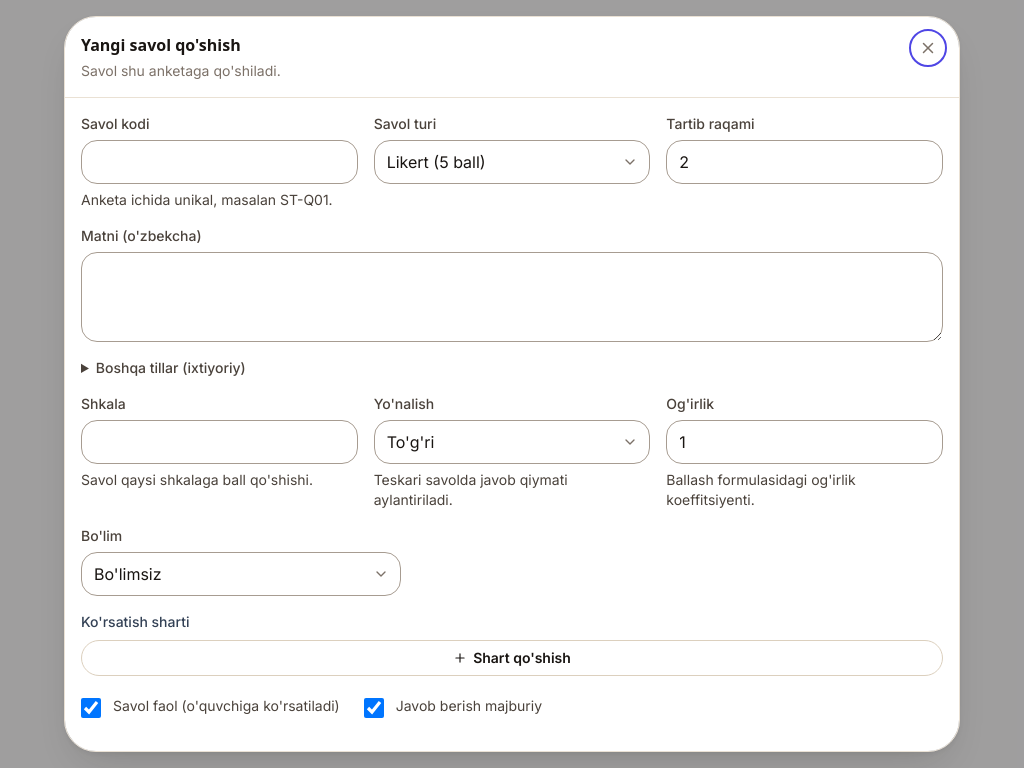
Test: QuestionEditorDialog — turga qarab maydonlar › noto'g'ri regex kiritilsa forma darajasida xato ko'rsatiladi (backend so'ralmaydi)
Step 1. Select "Qisqa matn" in the dropdown labelled "Savol turi" → {"x": 512, "y": 162}, box 374,140 -> 650,184
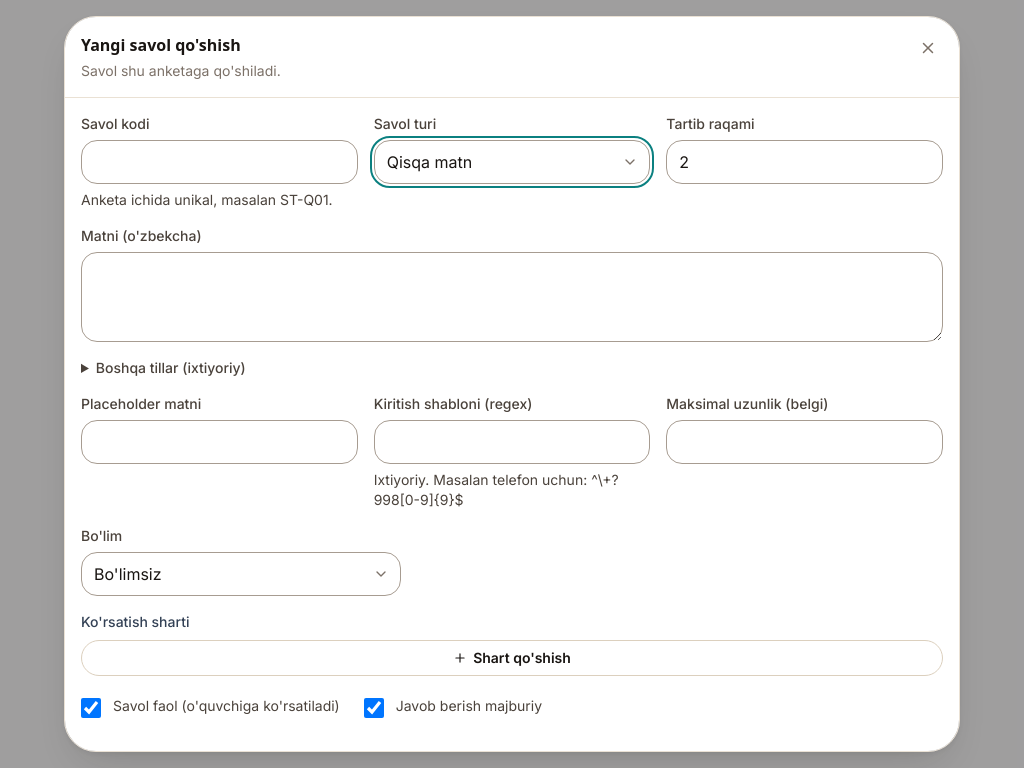
Step 2. Type "Q9" into the field labelled "Savol kodi" → {"x": 219, "y": 162}, box 81,140 -> 358,184
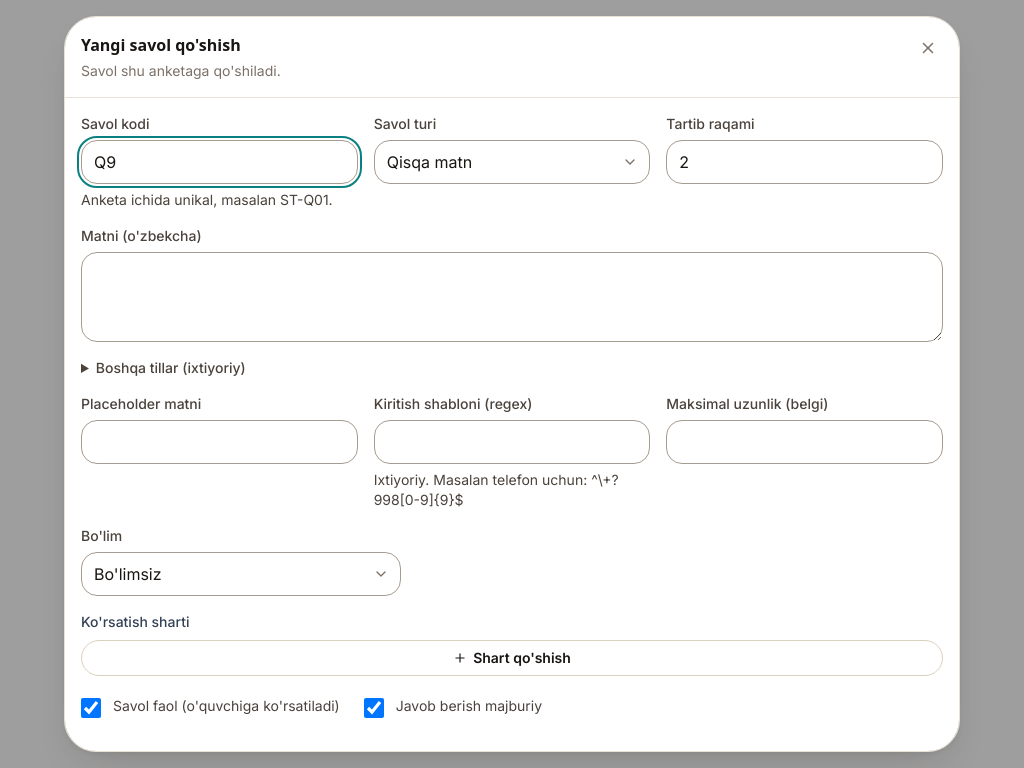
Step 3. Type "Test savoli" into the text box labelled "Matni (o'zbekcha)" → {"x": 512, "y": 297}, box 81,252 -> 943,342
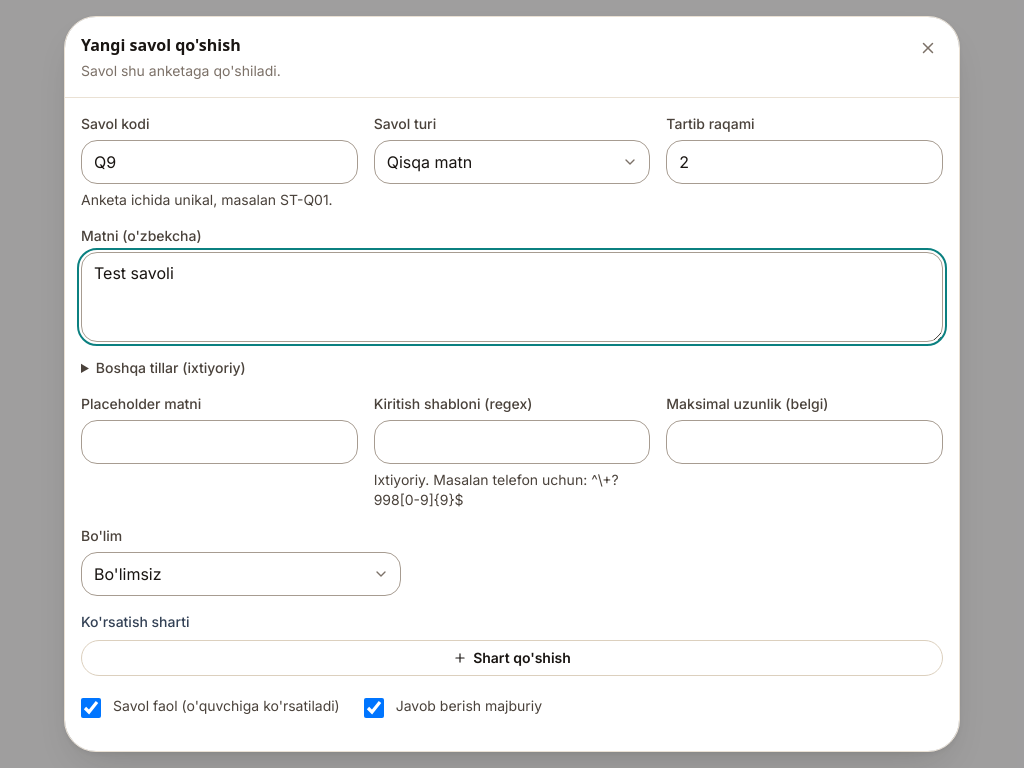
Step 4. Type "(unclosed" into the field labelled "Kiritish shabloni (regex)" → {"x": 512, "y": 442}, box 374,420 -> 650,464
(page scrolled)
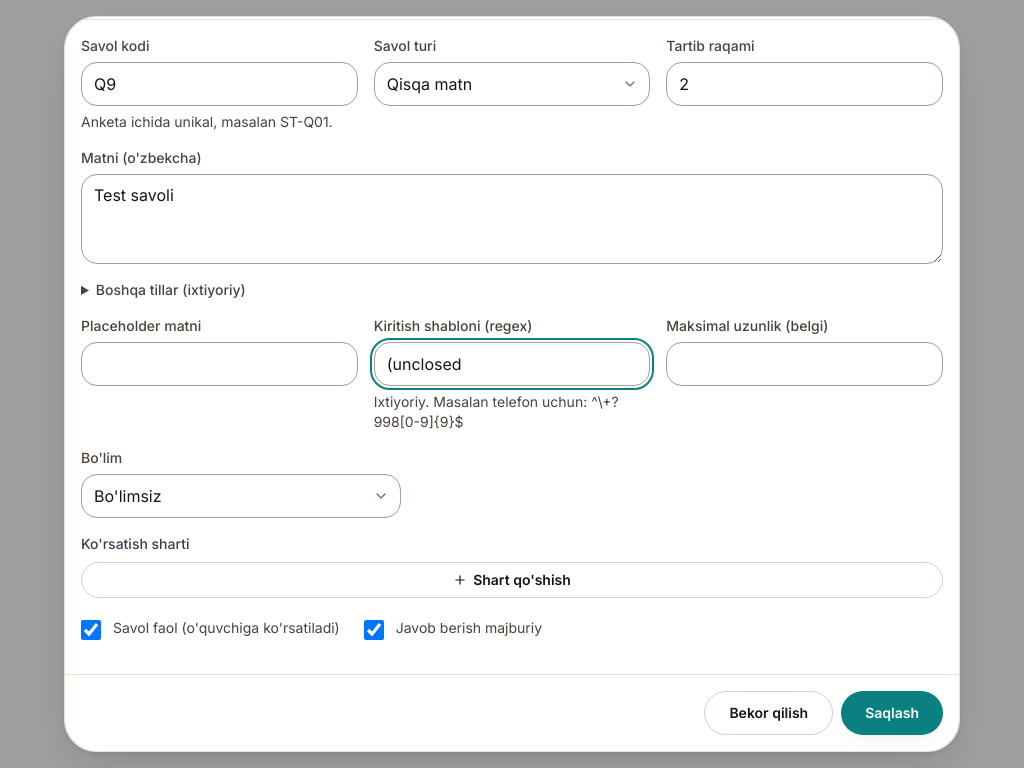
Step 5. Click the button "Saqlash" → {"x": 892, "y": 713}, box 841,691 -> 943,735
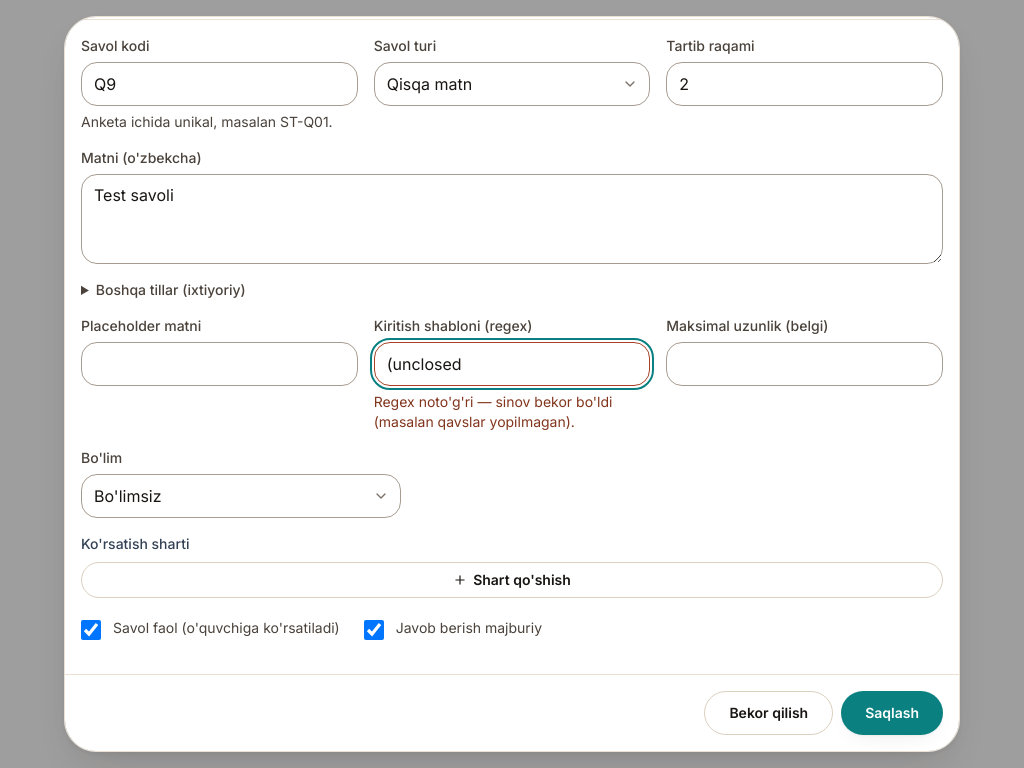
expect the text "Regex noto'g'ri — sinov bekor bo'ldi (masalan qavslar yopilmagan)." is shown: met, box 374,392 -> 650,432
